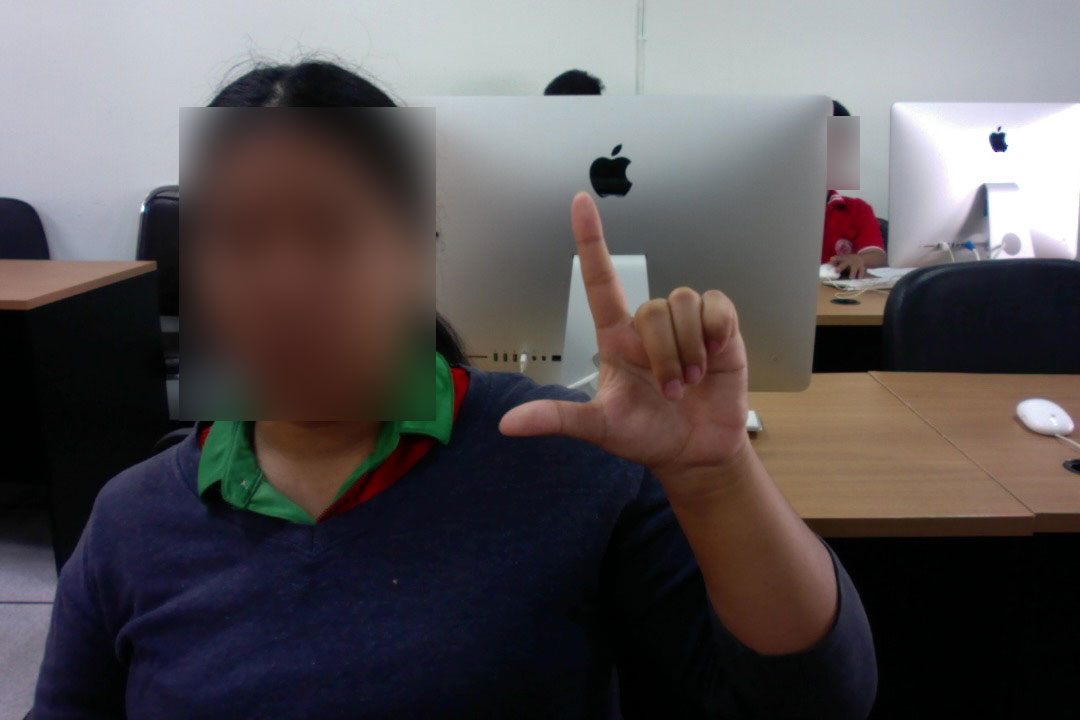lor: (481, 180, 784, 481)
